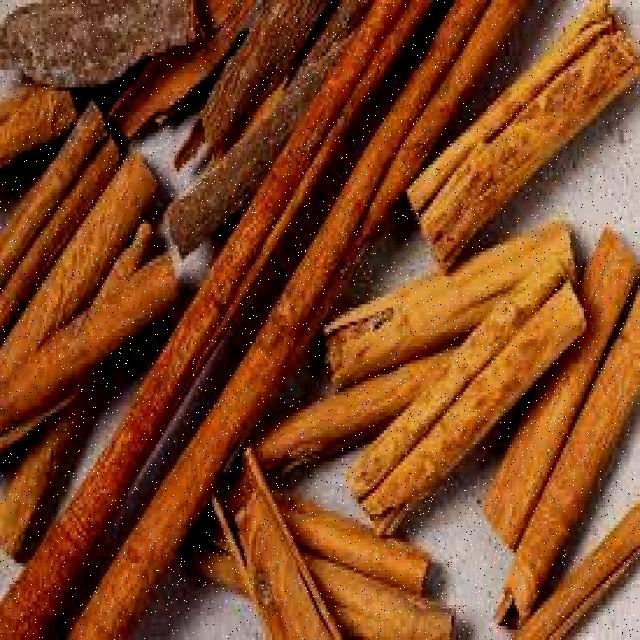Cinnamon: (127, 108, 449, 452)
